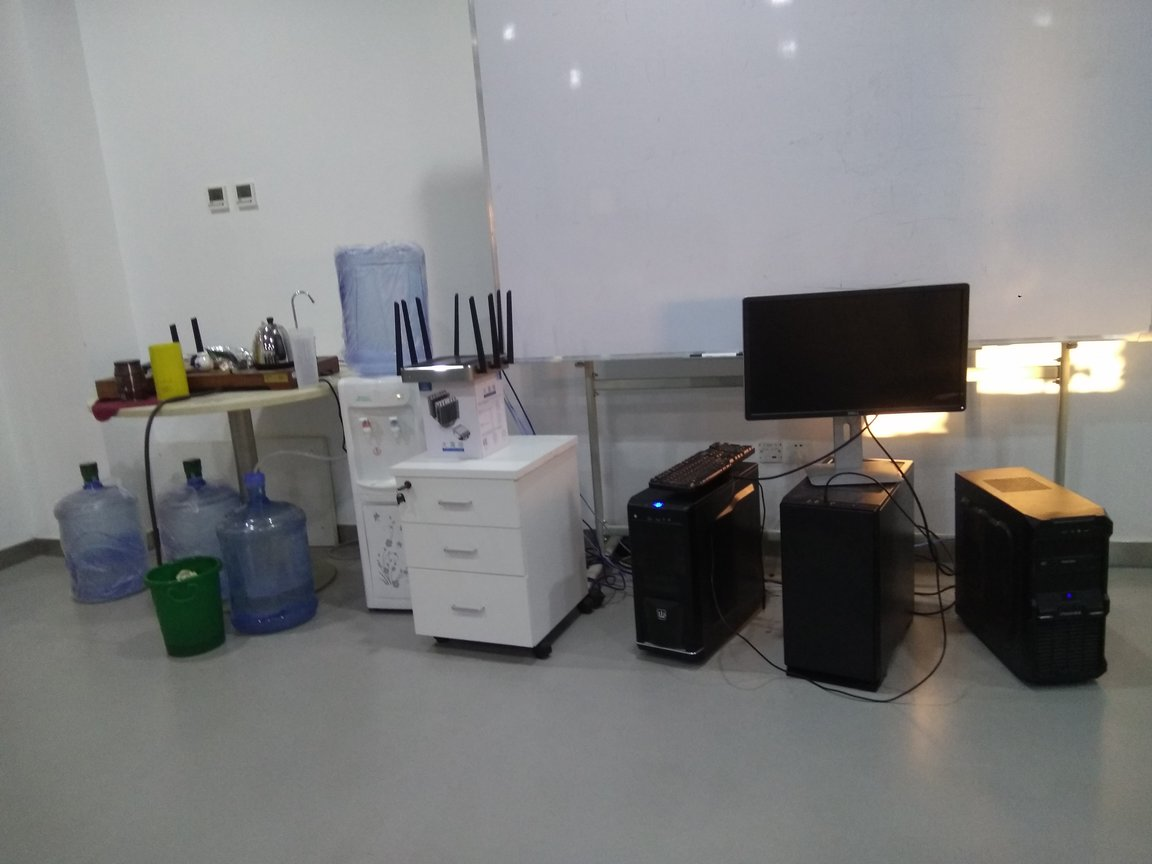computer: (955, 466, 1110, 696), (785, 454, 926, 704), (629, 461, 774, 683)
drawer chest: (407, 428, 591, 651)
monitor: (739, 286, 975, 492)
scuttlebutt: (220, 471, 318, 639), (327, 241, 435, 377), (52, 458, 145, 603), (166, 457, 248, 620)
water dispenser: (331, 370, 460, 622)
